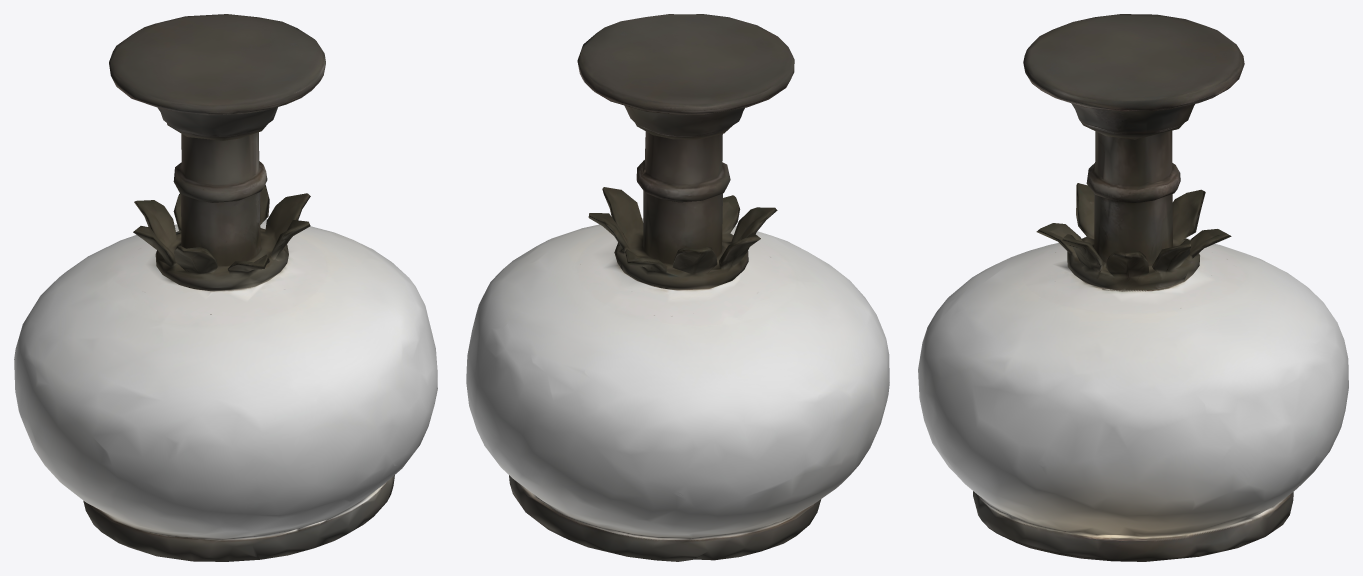
File: pendant+light+3d+model.glb
The picture shows the model from 3 angles, left to right: view 1: azimuth 30°, elevation 25°; view 2: azimuth 150°, elevation 25°; view 3: azimuth 270°, elevation 25°; orthographic projection.
Parts seen in each view (by area): view 1: tripo_node_5b5e4523-c414-46de-ac39-5384c15760fa; view 2: tripo_node_5b5e4523-c414-46de-ac39-5384c15760fa; view 3: tripo_node_5b5e4523-c414-46de-ac39-5384c15760fa.
Boxes of the visible parts, x1,y1,x2,y2 form: tripo_node_5b5e4523-c414-46de-ac39-5384c15760fa: (14,14,437,561); tripo_node_5b5e4523-c414-46de-ac39-5384c15760fa: (466,14,889,561); tripo_node_5b5e4523-c414-46de-ac39-5384c15760fa: (918,14,1348,561).
Size of the model in its own units: 0.8522 by 1 by 0.858.
1 material, 1 textured.
